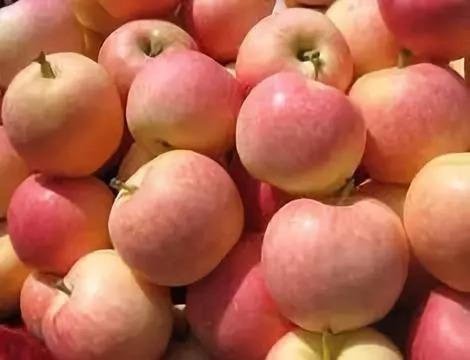apple: (261, 198, 408, 333), (108, 149, 246, 288), (235, 73, 366, 198), (3, 50, 125, 177), (184, 230, 300, 360), (347, 63, 470, 183), (42, 250, 172, 358), (125, 48, 245, 162), (5, 172, 116, 274), (235, 7, 353, 101), (97, 20, 198, 107)
